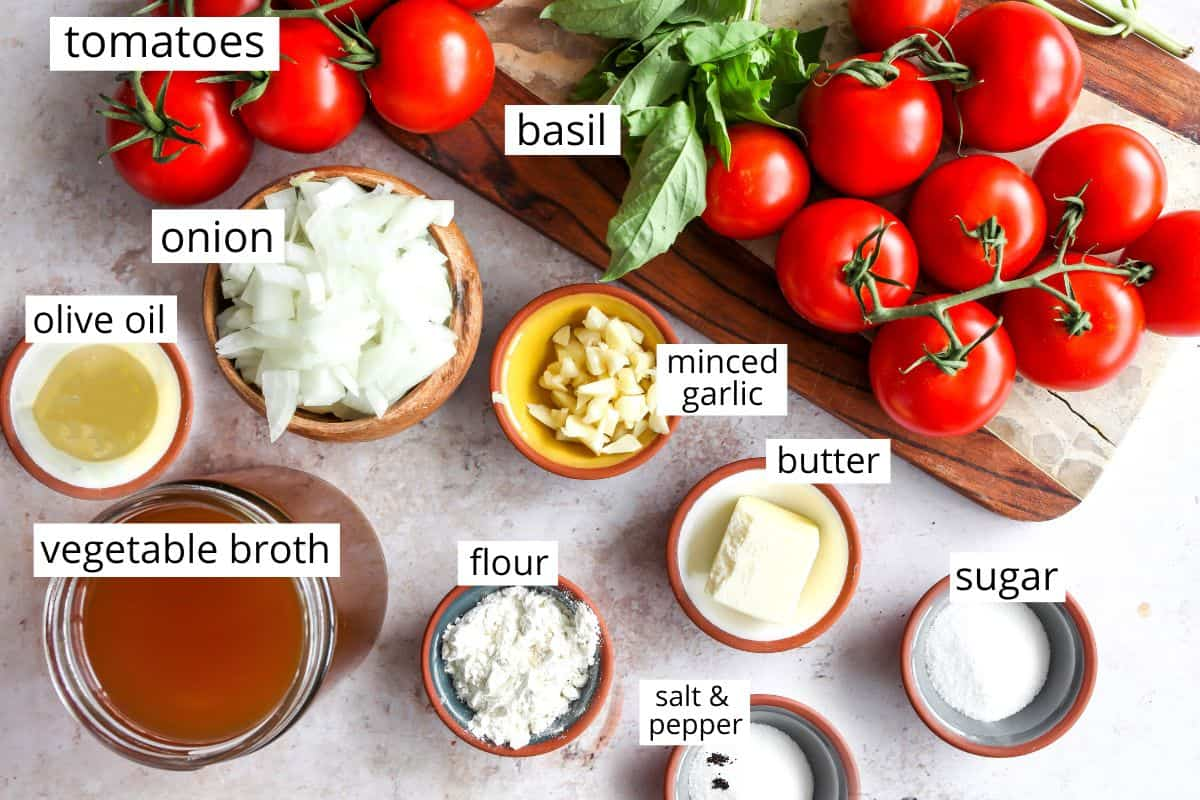Spinach: (597, 93, 707, 293), (678, 5, 808, 174)
Tomato: (803, 47, 952, 205), (939, 1, 1090, 155), (871, 290, 1020, 439), (99, 69, 257, 207), (1005, 251, 1152, 398), (1027, 120, 1171, 269), (911, 155, 1057, 299), (775, 200, 922, 339), (354, 0, 498, 137), (689, 117, 814, 247)
